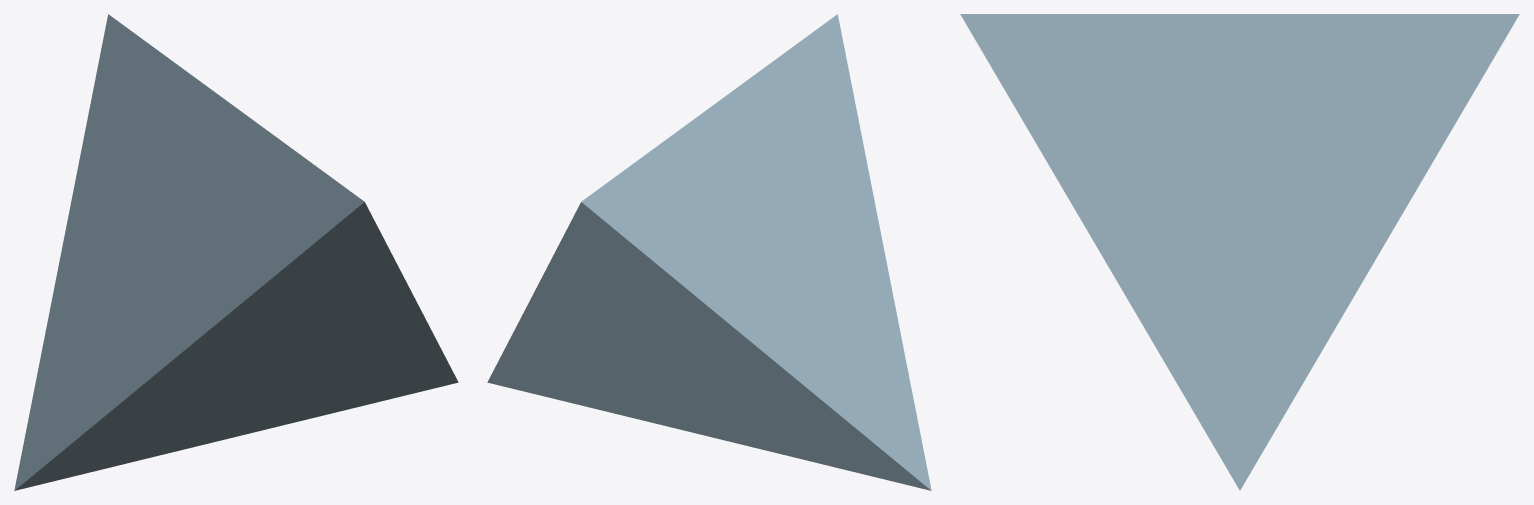
File: Tetraedroetereo.glb
3 renders of one model, left to right at view 1: azimuth 30°, elevation 25°; view 2: azimuth 150°, elevation 25°; view 3: azimuth 270°, elevation 25°, orthographic. The views are drawn at different scales.
Parts seen in each view (by area): view 1: VolumenInterior; view 2: VolumenInterior; view 3: VolumenInterior.
Boxes of the visible parts, x1,y1,x2,y2 form: VolumenInterior: (14, 14, 458, 490); VolumenInterior: (487, 14, 931, 490); VolumenInterior: (960, 14, 1519, 490).
Bounding box in the file's own units: 1.9 × 1.34 × 1.9.
